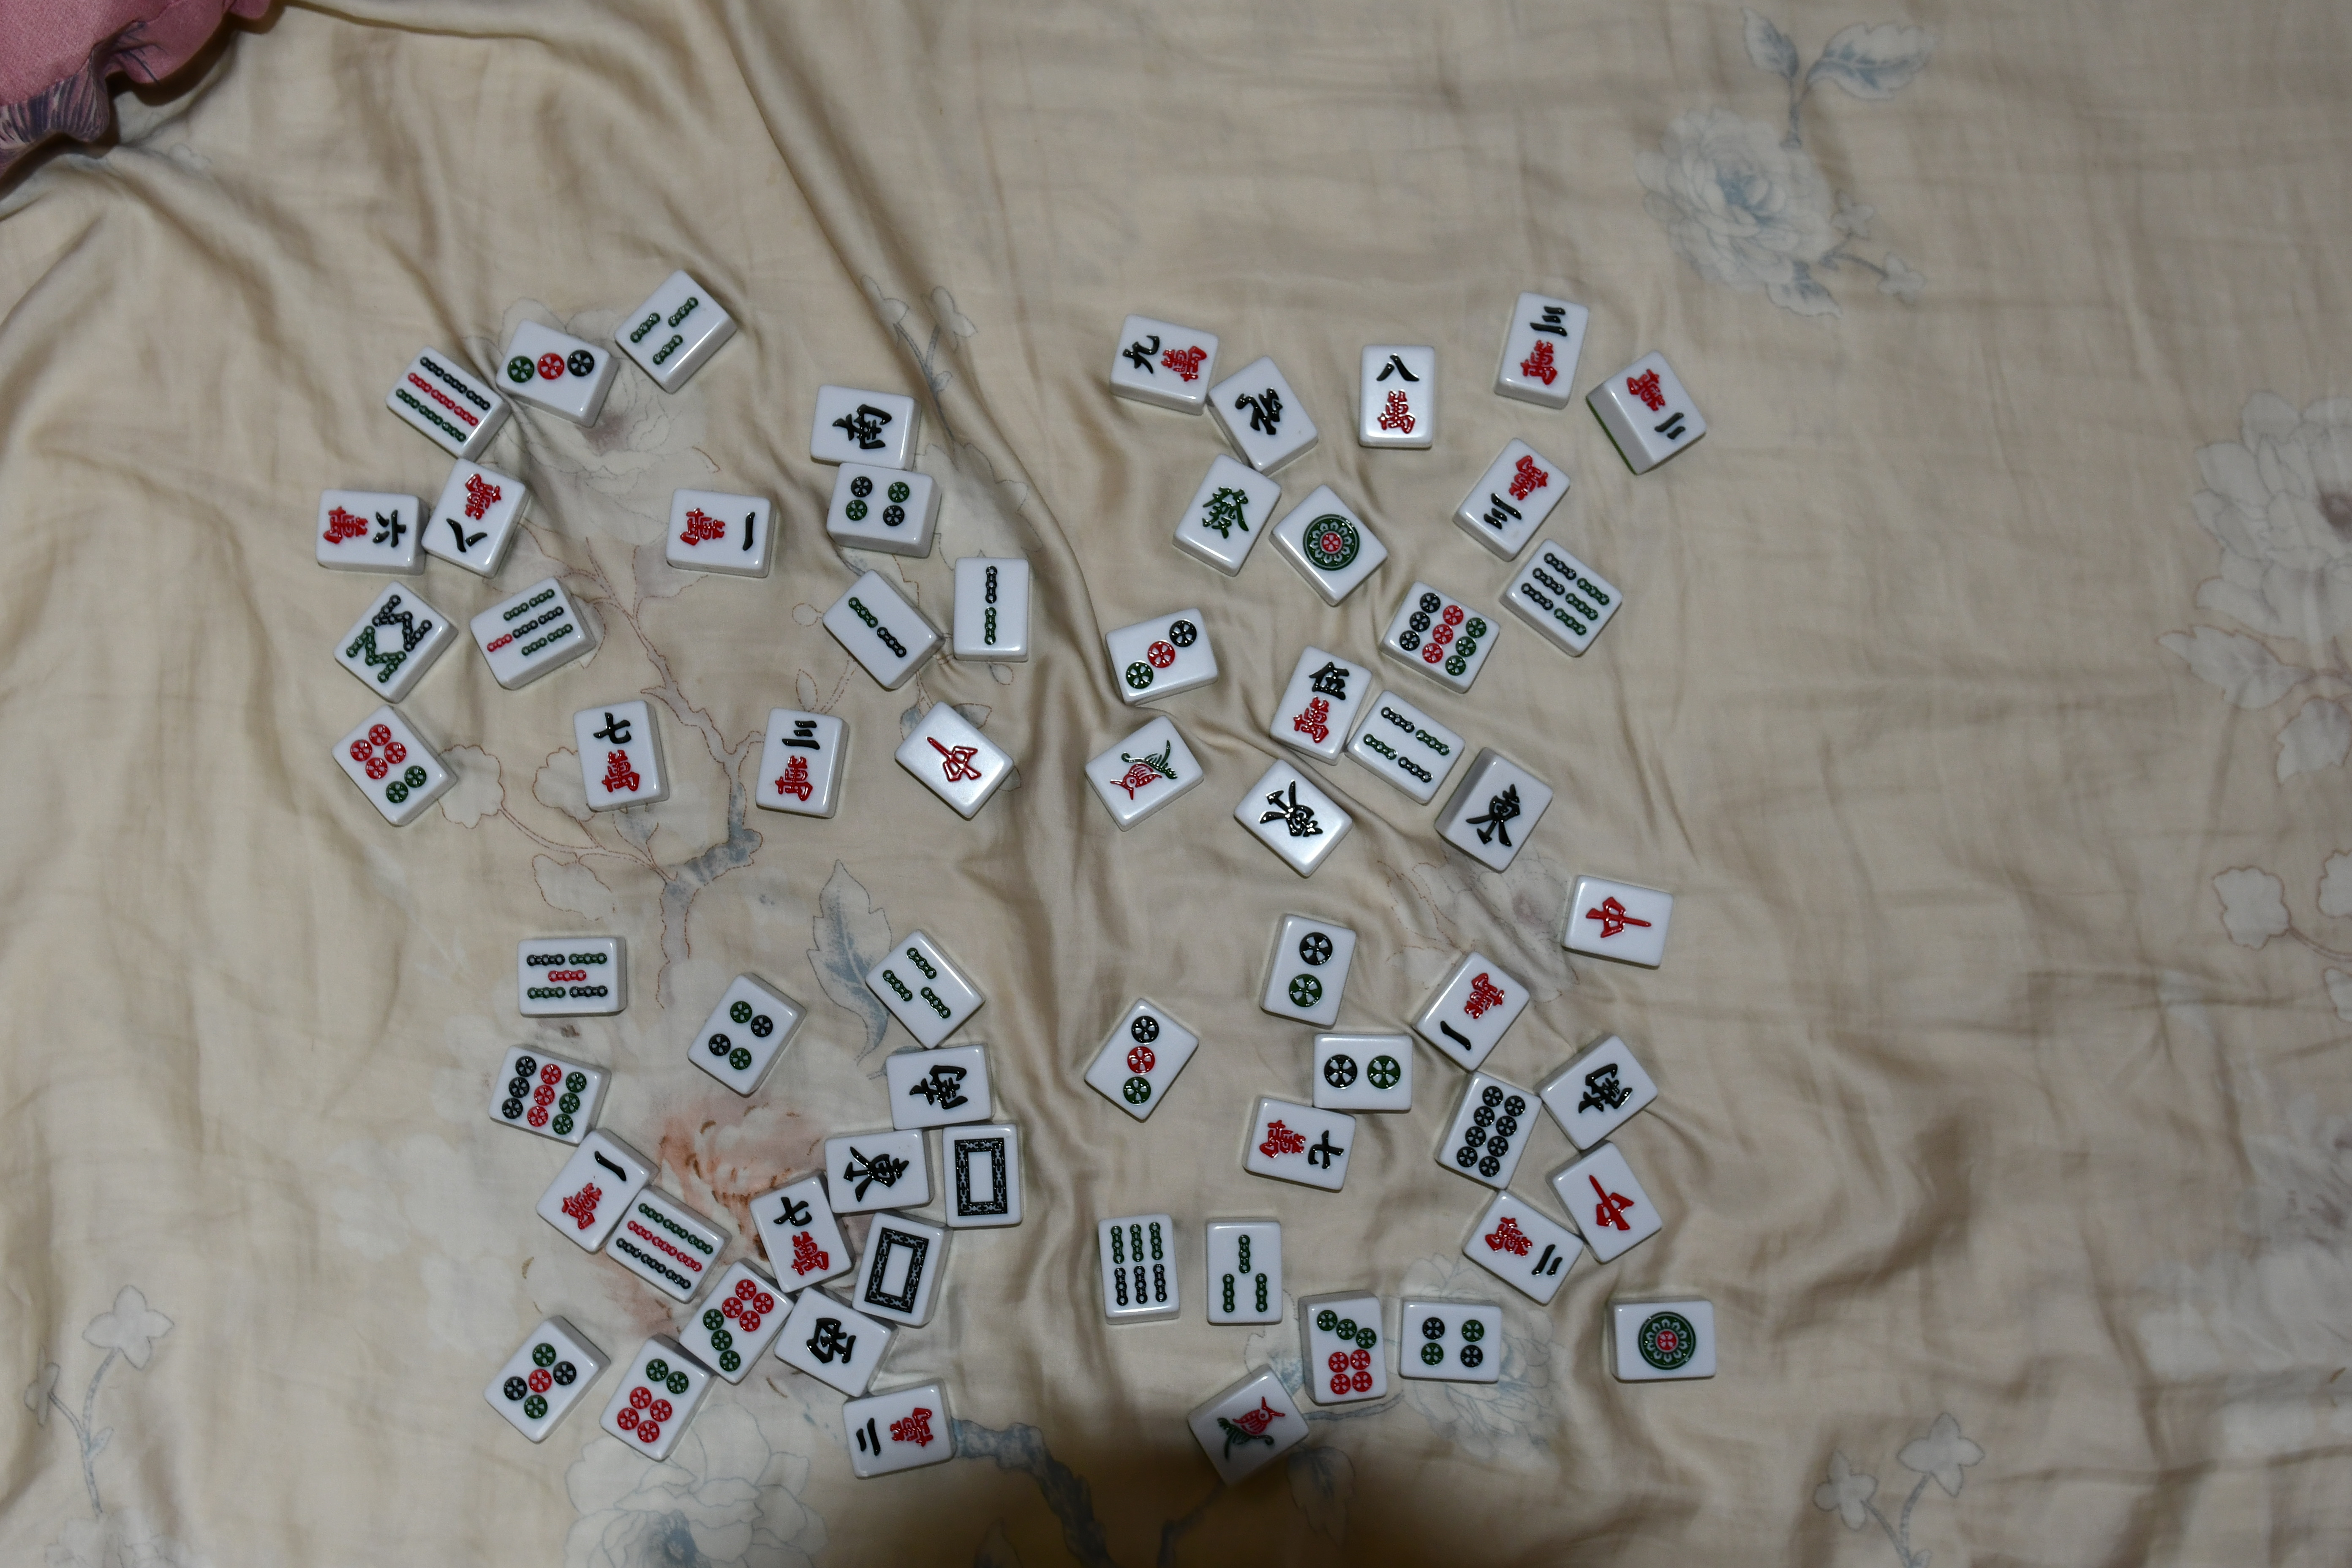b-1: (1106, 737, 1182, 806)
b-2: (842, 595, 912, 661), (974, 560, 1006, 648)
b-3: (877, 946, 955, 1024), (630, 293, 705, 367), (1216, 1230, 1275, 1317)
b-4: (1359, 708, 1450, 784)
b-5: (524, 953, 609, 1003)
b-6: (1520, 549, 1612, 644), (1105, 1219, 1170, 1306)
b-7: (479, 587, 580, 665)
b-8: (338, 591, 433, 684)
b-9: (392, 353, 502, 446), (610, 1202, 716, 1295)
c-1: (1437, 969, 1511, 1053), (560, 1150, 629, 1231), (678, 500, 760, 561)
c-2: (1619, 365, 1694, 449), (1480, 1211, 1567, 1281), (853, 1402, 943, 1463)
c-3: (1480, 453, 1551, 534), (767, 718, 828, 803), (1516, 298, 1571, 387)
c-5: (1288, 659, 1349, 743)
c-6: (319, 504, 411, 551)
c-7: (1250, 1115, 1351, 1176), (773, 1198, 835, 1277), (592, 713, 643, 795)
c-8: (437, 474, 506, 561), (1366, 348, 1426, 441)
c-9: (1118, 331, 1209, 387)
d-1: (1209, 1392, 1283, 1465), (1636, 1307, 1698, 1373), (1296, 515, 1360, 572)
d-2: (1277, 927, 1336, 1016), (1320, 1049, 1407, 1098)
d-3: (1118, 613, 1200, 692), (1112, 1015, 1168, 1106), (507, 344, 595, 389)
d-4: (838, 467, 920, 530), (707, 999, 777, 1073), (1415, 1313, 1489, 1374)
d-5: (501, 1341, 581, 1421)
d-6: (611, 1356, 692, 1449), (348, 722, 430, 807)
d-7: (702, 1279, 773, 1372), (1311, 1309, 1375, 1396)
d-8: (1453, 1084, 1525, 1180)
d-9: (1396, 588, 1489, 680), (497, 1054, 591, 1136)
honors-east: (831, 1144, 919, 1208), (1467, 773, 1527, 855), (1253, 778, 1322, 846)
honors-green: (1196, 480, 1253, 543)
honors-north: (1233, 383, 1284, 441)
honors-red: (1584, 1165, 1639, 1239), (921, 729, 985, 788), (1579, 894, 1654, 944)
honors-south: (903, 1059, 975, 1116), (1575, 1060, 1633, 1123), (830, 400, 893, 453)
honors-west: (803, 1310, 863, 1375)
honors-white: (944, 1128, 1014, 1226), (861, 1221, 930, 1317)
